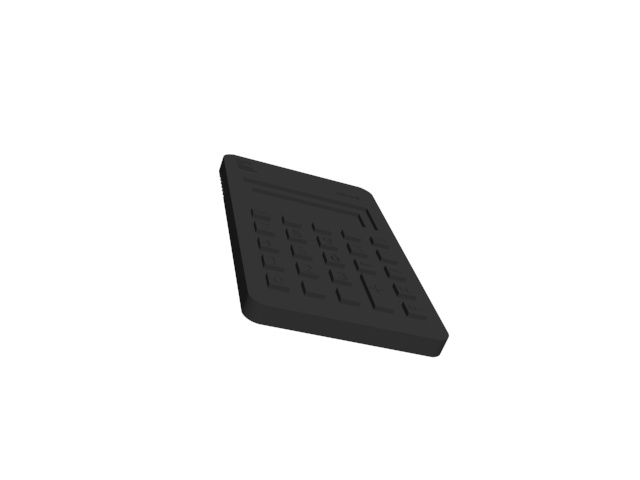calculator: (217, 153, 456, 360)
